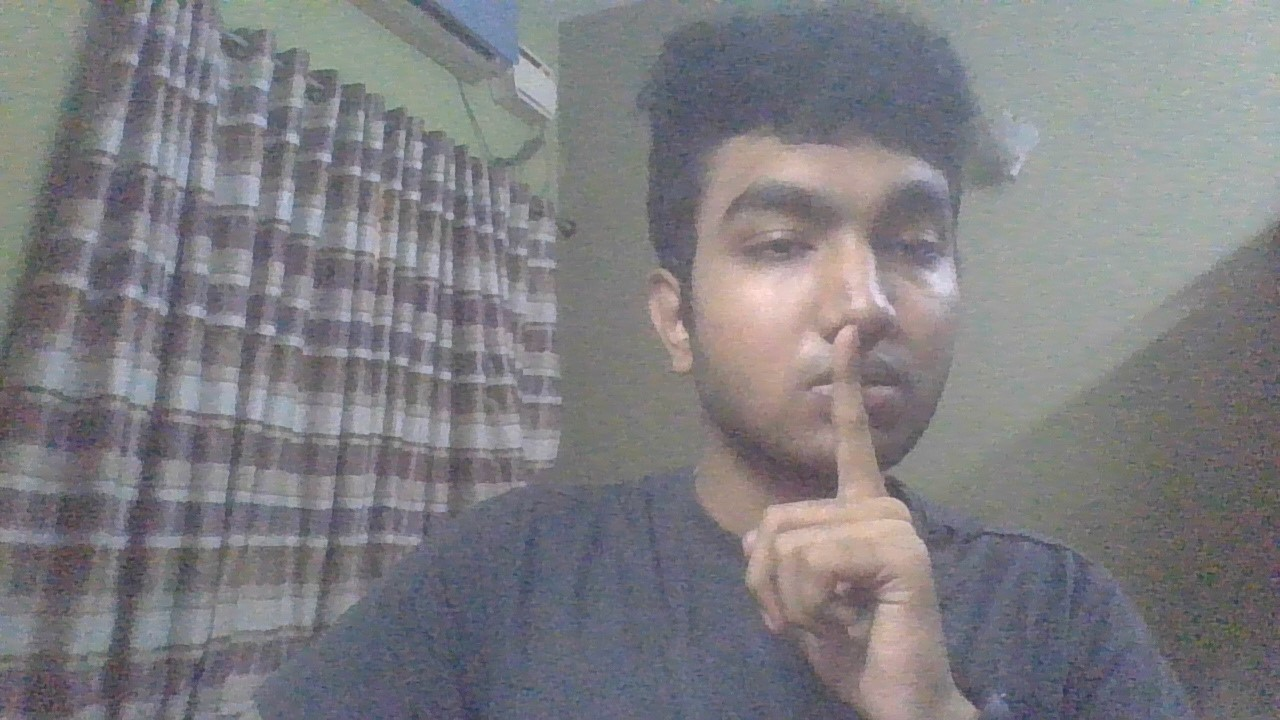Quiet: (737, 324, 969, 708)
